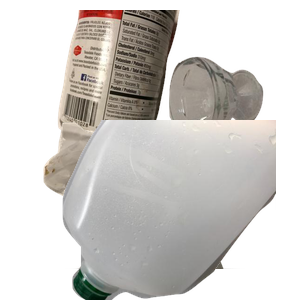glass: (166, 54, 300, 189)
metal: (55, 10, 227, 149)
plastic: (60, 120, 300, 300)
trash: (41, 120, 276, 300)
